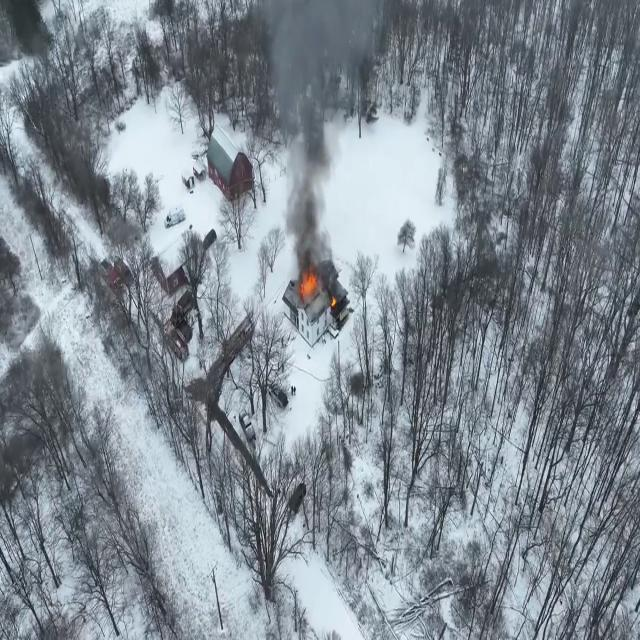Fire: (297, 260, 323, 306)
Smoke: (276, 0, 376, 256)
